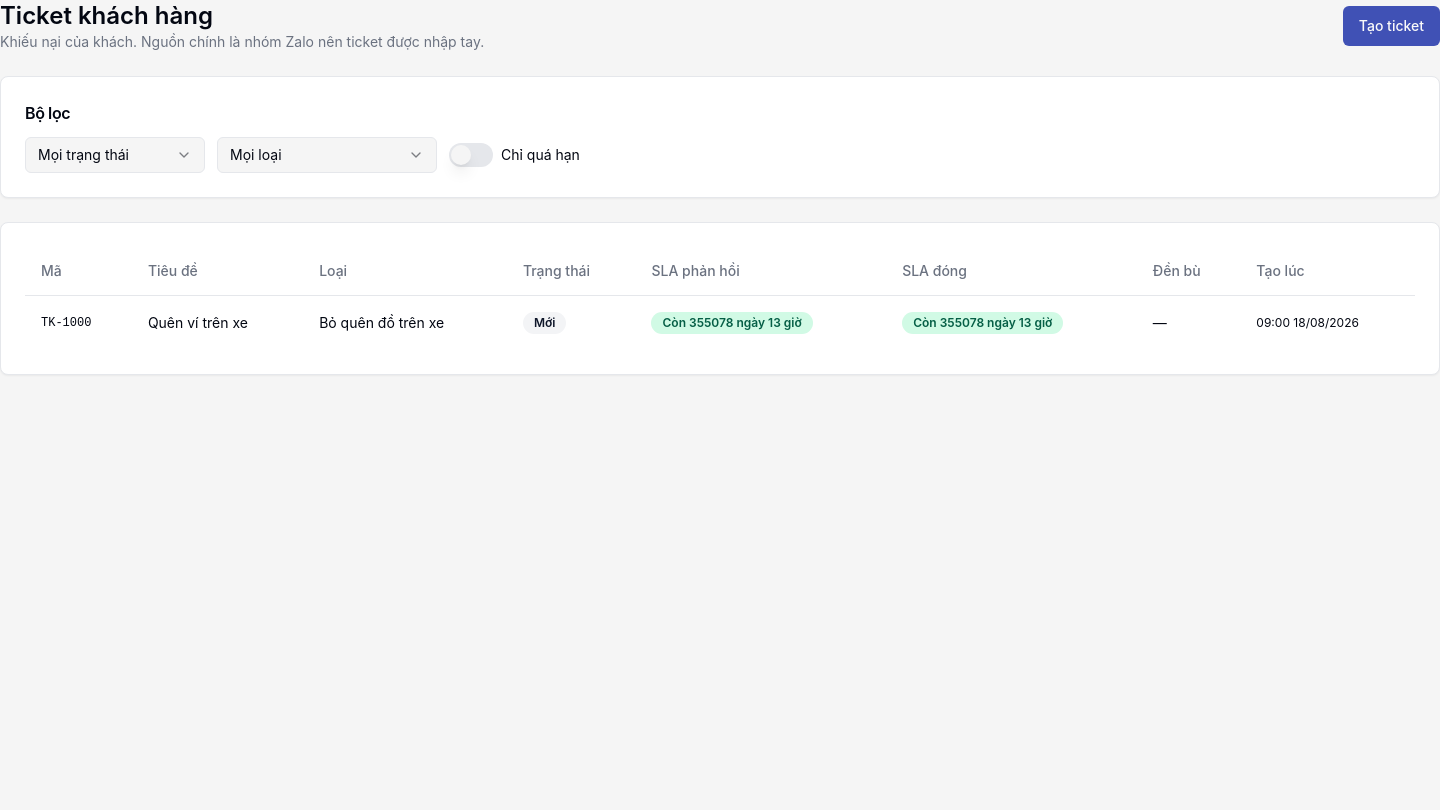
it: /crm-tickets — chi tiết & ĐỀN BÙ (ranh giới quyền) › KHÔNG có crm-compensate: có nút Đề xuất, KHÔNG có nút DUYỆT
What coordinates should you click on to do the following:
click the row with test id "crm-ticket-row"
I would click on:
 (720, 322)
Its box is [25,295,1415,350].
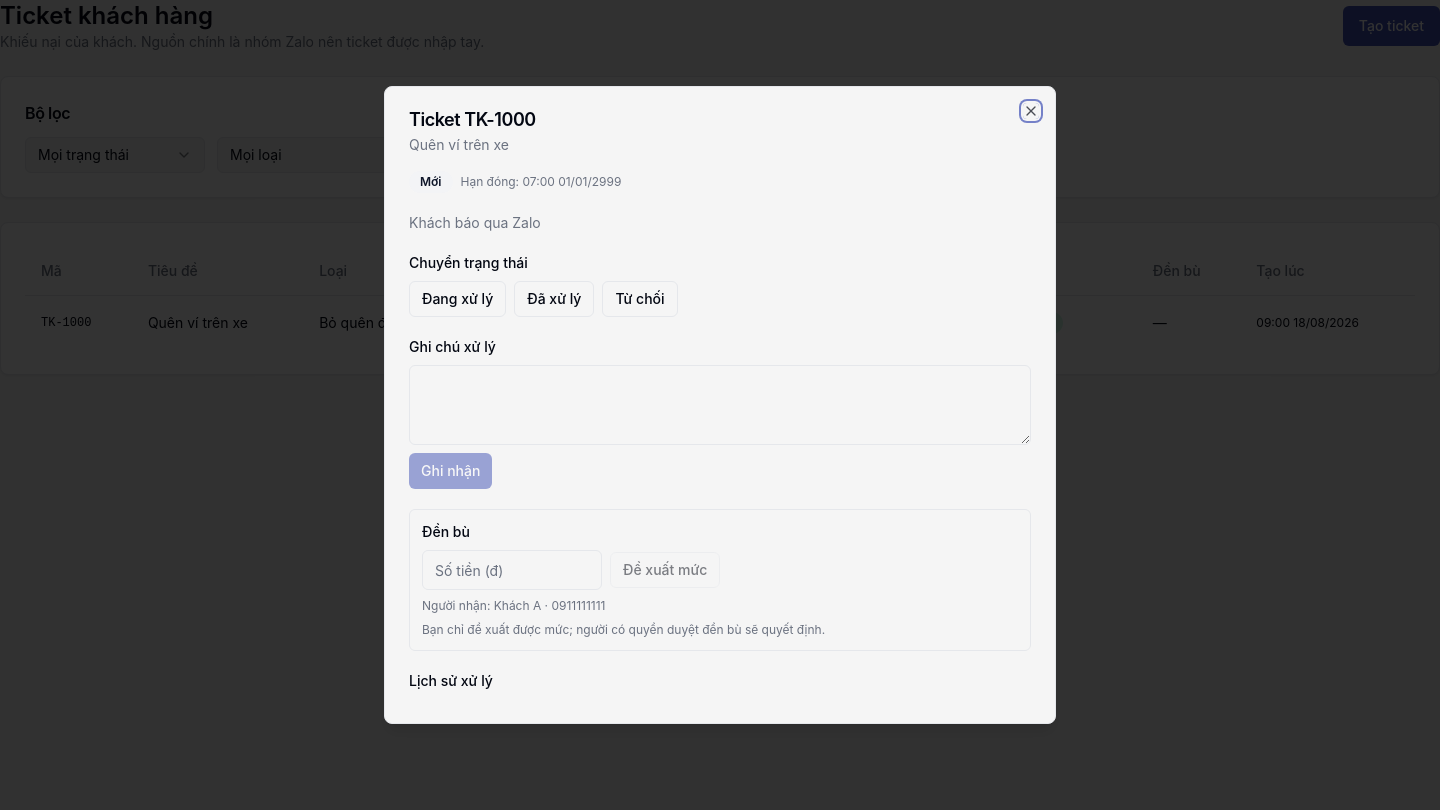
Check: the heading "Ticket TK-1000" is shown, box [409,109,536,130]
Check: the button "Đề xuất mức" is shown, box [610,552,720,588]
Check: the text "Bạn chỉ đề xuất được mức" is shown, box [422,622,825,637]
